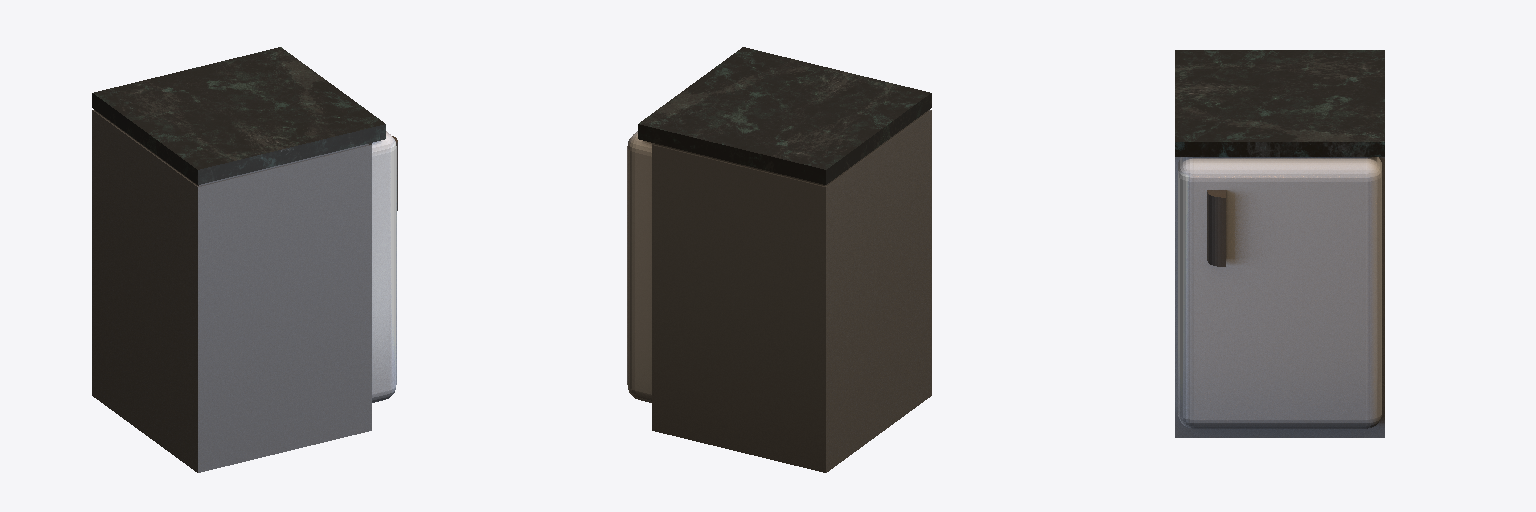
3 renders of one model, left to right at view 1: azimuth 30°, elevation 25°; view 2: azimuth 150°, elevation 25°; view 3: azimuth 270°, elevation 25°, orthographic.
Visible parts, largest first — view 1: placard.001_Cube.009; view 2: placard.001_Cube.009; view 3: placard.001_Cube.009.
Part boxes in pixels (bbox=[...]): placard.001_Cube.009: bbox=[92, 47, 397, 472]; placard.001_Cube.009: bbox=[627, 47, 931, 472]; placard.001_Cube.009: bbox=[1175, 50, 1384, 437].
Bounding box in the file's own units: 1.53 × 2 × 1.26.
Materials: 1 (1 with a texture image).